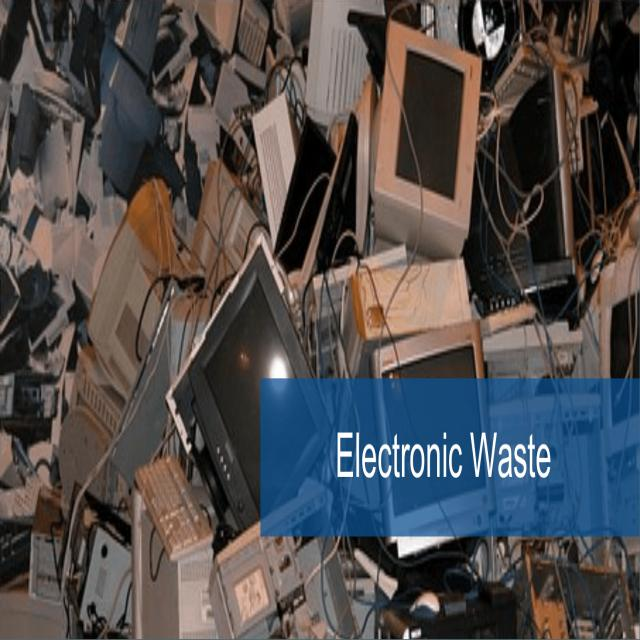hazard: (11, 43, 589, 624)
